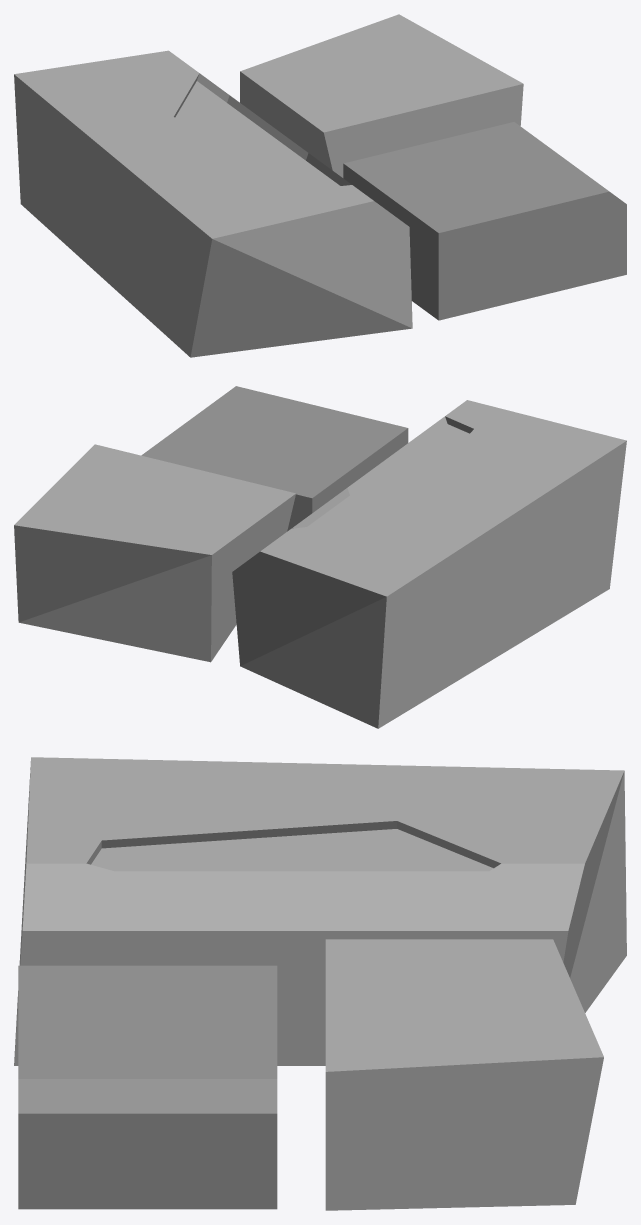
The model's file is EA03_Environment_Road_Cobble_01b.glb.
3 views of the same model, one above another, from view 1: azimuth 30°, elevation 25°; view 2: azimuth 150°, elevation 25°; view 3: azimuth 270°, elevation 25° (orthographic). The views are drawn at different scales.
Visible parts, largest first — view 1: EA03_Environment_Road_Cobble_01b; view 2: EA03_Environment_Road_Cobble_01b; view 3: EA03_Environment_Road_Cobble_01b.
Boxes of the visible parts, box(x1,y1,x2,y2) form: EA03_Environment_Road_Cobble_01b: box(14, 14, 626, 357); EA03_Environment_Road_Cobble_01b: box(14, 386, 626, 728); EA03_Environment_Road_Cobble_01b: box(14, 757, 626, 1210).
Size of the model in its own units: 1.8 by 0.54 by 1.67.
1 material, 1 textured.
